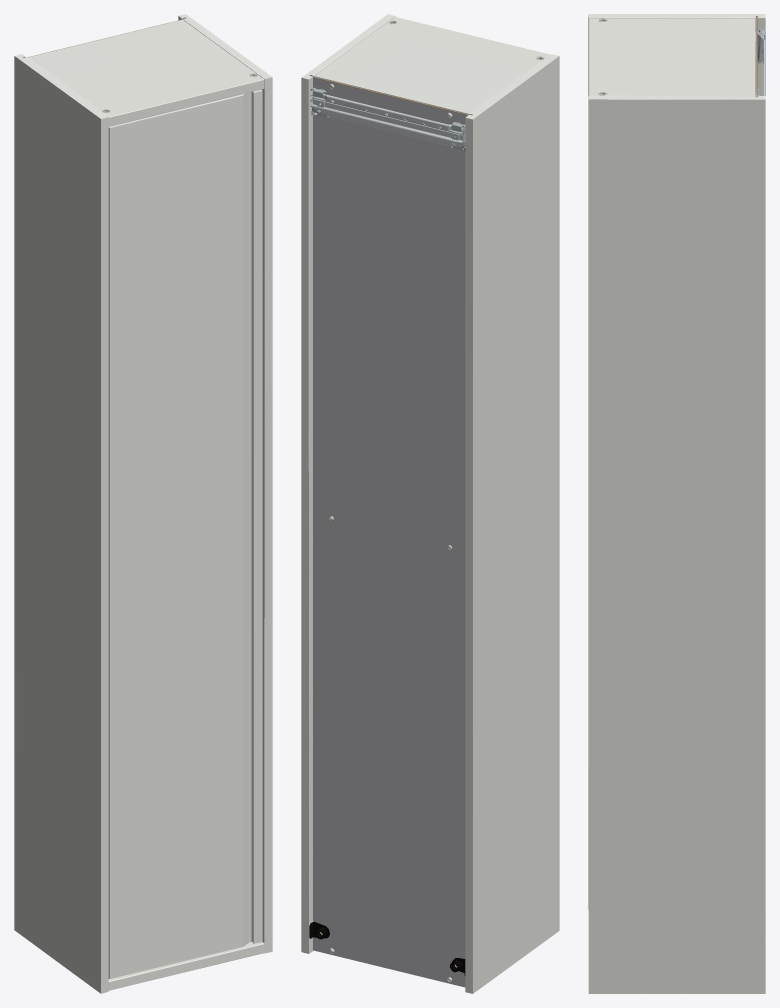
File: angsjon_szafka_wysoka_drzwi_40535081.glb
3 views of the same model, side by side, from view 1: azimuth 30°, elevation 25°; view 2: azimuth 150°, elevation 25°; view 3: azimuth 270°, elevation 25° (orthographic). The views are drawn at different scales.
Parts seen in each view (by area): view 1: angsjon_szafka_wysoka_drzwi_40535081; view 2: angsjon_szafka_wysoka_drzwi_40535081; view 3: angsjon_szafka_wysoka_drzwi_40535081.
Boxes of the visible parts, box(x1,y1,x2,y2) form: angsjon_szafka_wysoka_drzwi_40535081: box(14, 14, 272, 993); angsjon_szafka_wysoka_drzwi_40535081: box(301, 14, 559, 993); angsjon_szafka_wysoka_drzwi_40535081: box(588, 14, 765, 993).
Size of the model in its own units: 0.4 by 1.95 by 0.3505.
Materials: 3 (3 with a texture image).
